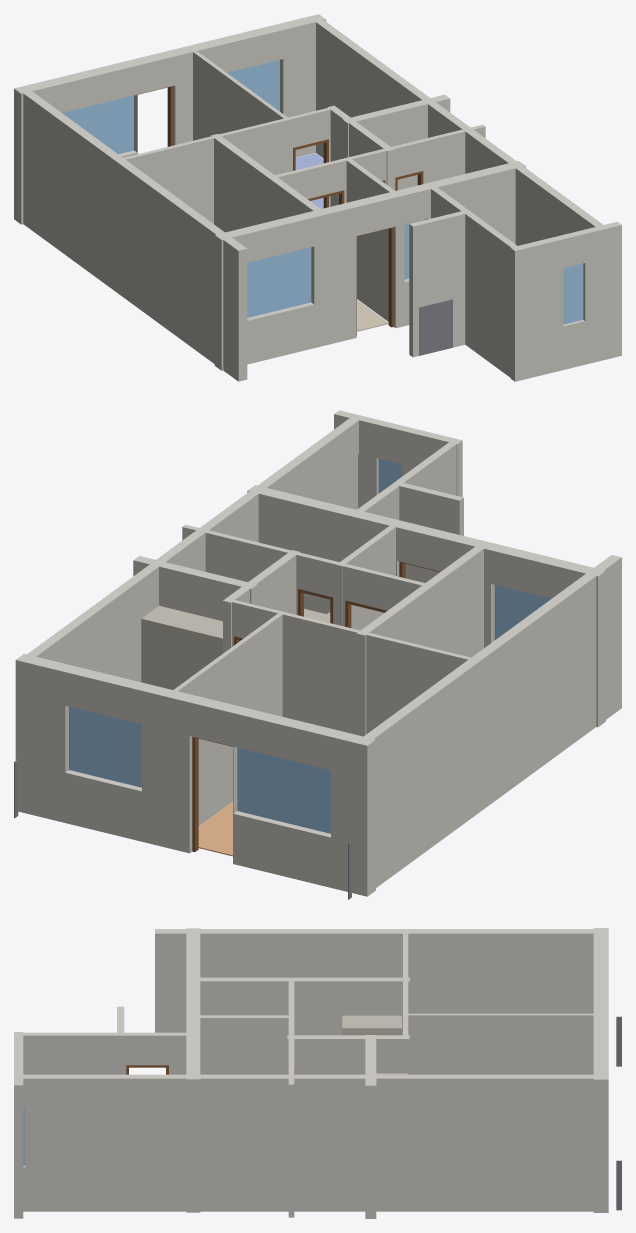
3 renders of one model, top to bottom at view 1: azimuth 30°, elevation 25°; view 2: azimuth 150°, elevation 25°; view 3: azimuth 270°, elevation 25°, orthographic. The views are drawn at different scales.
Parts seen in each view (by area): view 1: walls, window_4, window_2, railings, window_0, window_11, door_3, floor_5_Entry; view 2: walls, window_2, furniture_0_closet, window_0, window_4, floor_0_Living_Room, door_1; view 3: walls, furniture_1_closet, railings.
Boxes of the visible parts, x1=… form: walls: x1=14, y1=14, x2=621, y2=381; window_4: x1=247, y1=247, x2=311, y2=317; window_2: x1=62, y1=95, x2=133, y2=154; railings: x1=419, y1=299, x2=452, y2=355; window_0: x1=227, y1=60, x2=279, y2=111; window_11: x1=563, y1=263, x2=583, y2=324; door_3: x1=356, y1=227, x2=393, y2=335; floor_5_Entry: x1=357, y1=300, x2=388, y2=331; walls: x1=15, y1=410, x2=621, y2=896; window_2: x1=237, y1=747, x2=330, y2=833; furniture_0_closet: x1=141, y1=605, x2=222, y2=689; window_0: x1=69, y1=706, x2=141, y2=787; window_4: x1=494, y1=585, x2=551, y2=639; floor_0_Living_Room: x1=198, y1=802, x2=232, y2=856; door_1: x1=192, y1=736, x2=232, y2=852; walls: x1=14, y1=928, x2=608, y2=1218; furniture_1_closet: x1=342, y1=1015, x2=401, y2=1035; railings: x1=616, y1=1016, x2=621, y2=1210.
Size of the model in its own units: 6.84 by 2.72 by 11.17.
